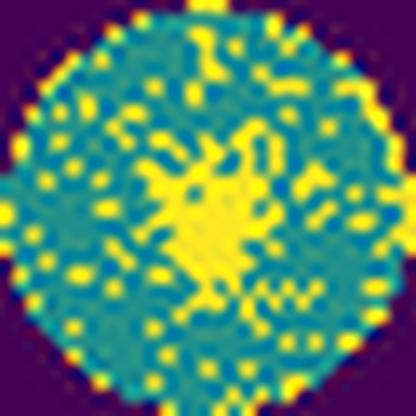Center: (135, 117, 294, 319)
